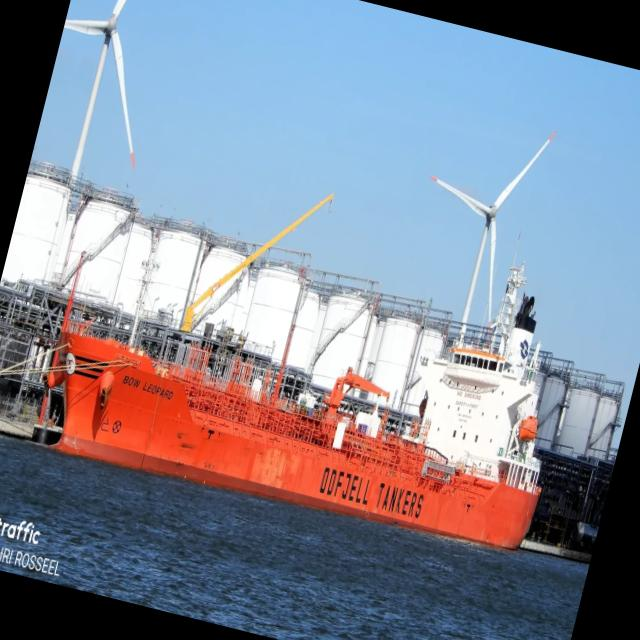Offshore: (46, 267, 540, 548)
